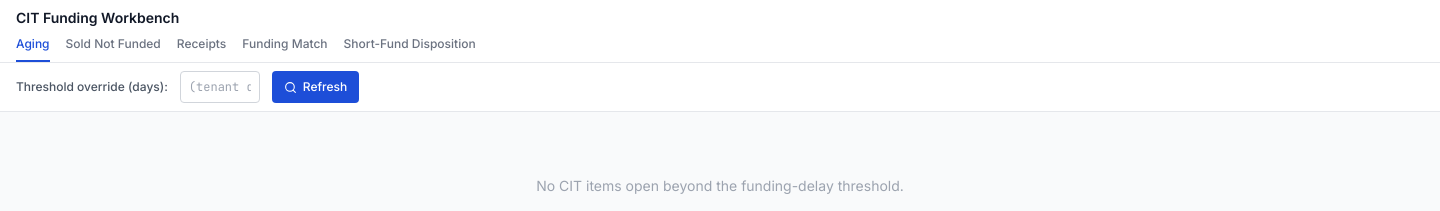
Test: CitFundingWorkbench — Sold Not Funded tab › shows a 403-specific message on error
What coordinates should you click on to do the following:
click the button with test id "cit-tab-snf"
I would click on:
 (113, 49)
Its box is top-left (66, 36), bottom-right (161, 62).
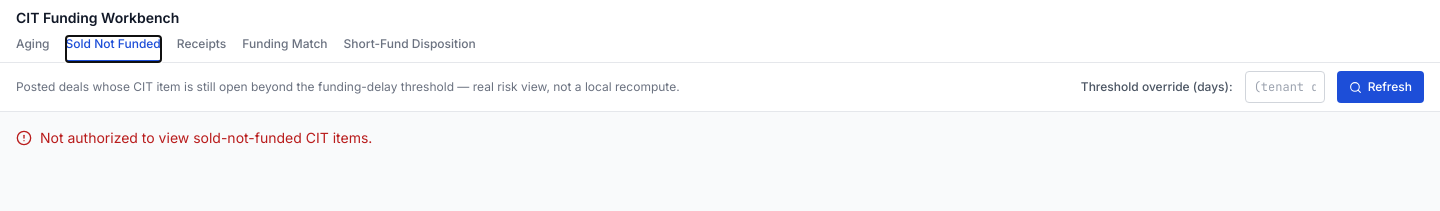
Check: the element with test id "cit-snf-error" shows "Not authorized", box top-left (40, 129), bottom-right (372, 146)
